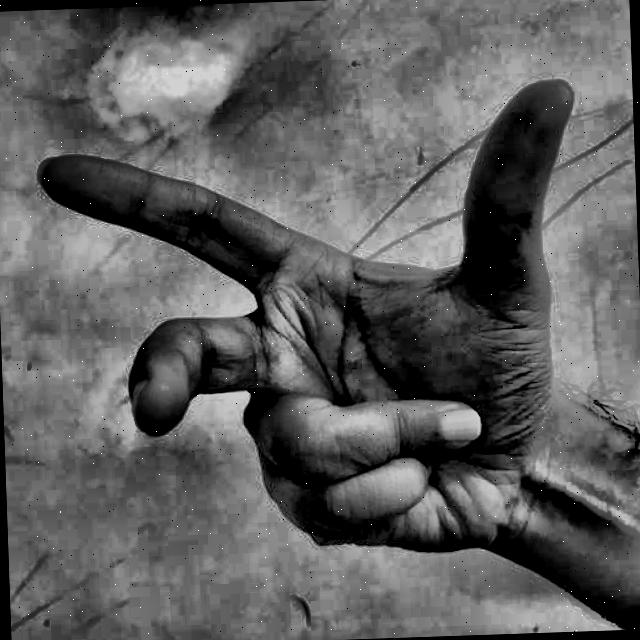Da: (14, 15, 606, 608)
